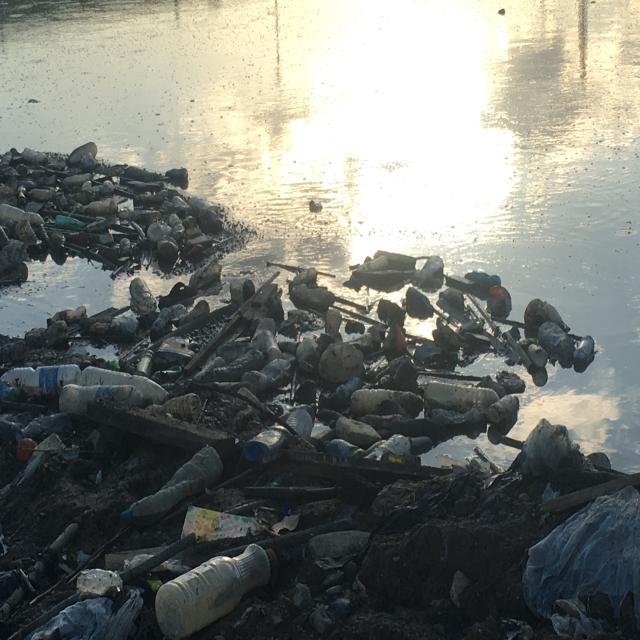Plastic bottle: (420, 378, 501, 419), (348, 386, 426, 424), (240, 420, 294, 463), (241, 358, 294, 393), (536, 318, 576, 362), (287, 280, 336, 313), (320, 434, 367, 460), (187, 258, 226, 289), (487, 393, 521, 426), (128, 276, 158, 313), (517, 337, 549, 371), (463, 268, 502, 294), (572, 332, 597, 368), (180, 297, 212, 325), (65, 140, 98, 164), (323, 307, 343, 344), (291, 267, 319, 287), (19, 146, 49, 164), (165, 168, 189, 182)
Undefined trash: (521, 296, 572, 336)
